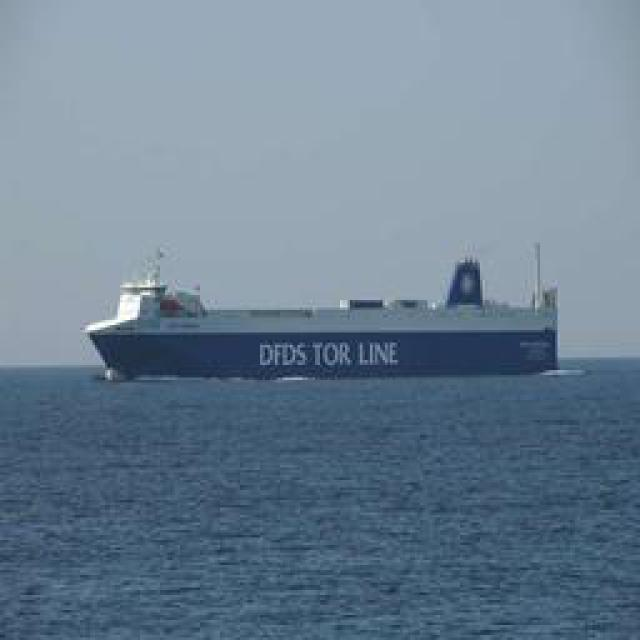Ship: (75, 251, 566, 386)
